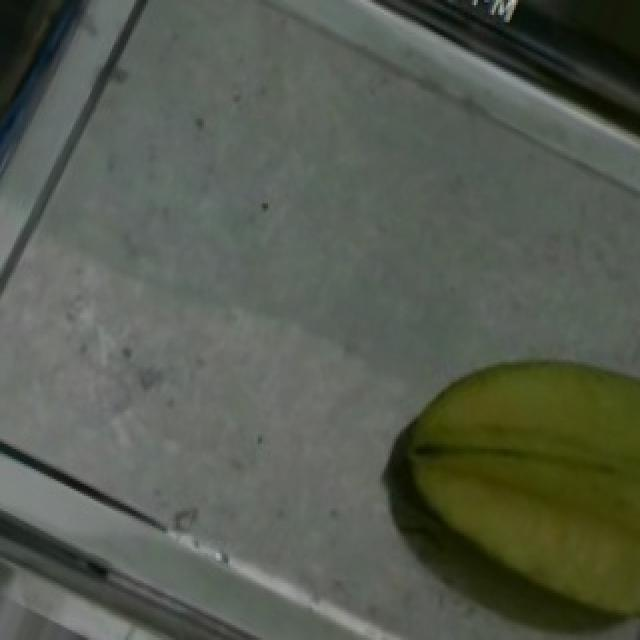fruit: (368, 295, 640, 640)
